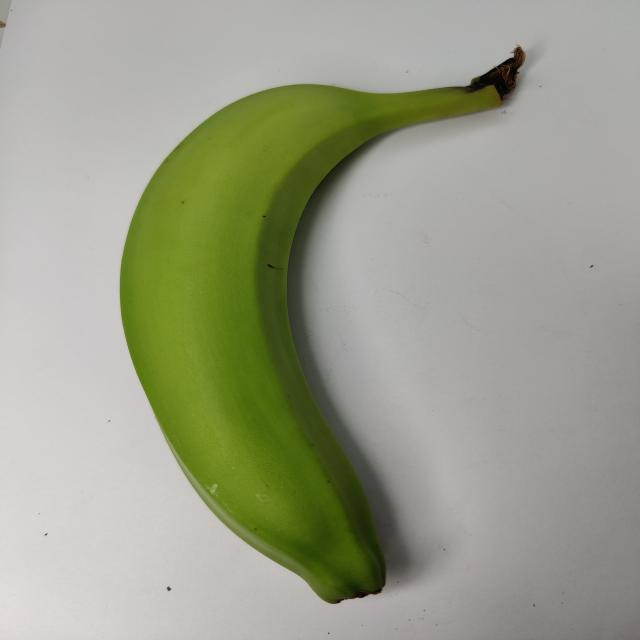raw: (107, 38, 560, 610)
